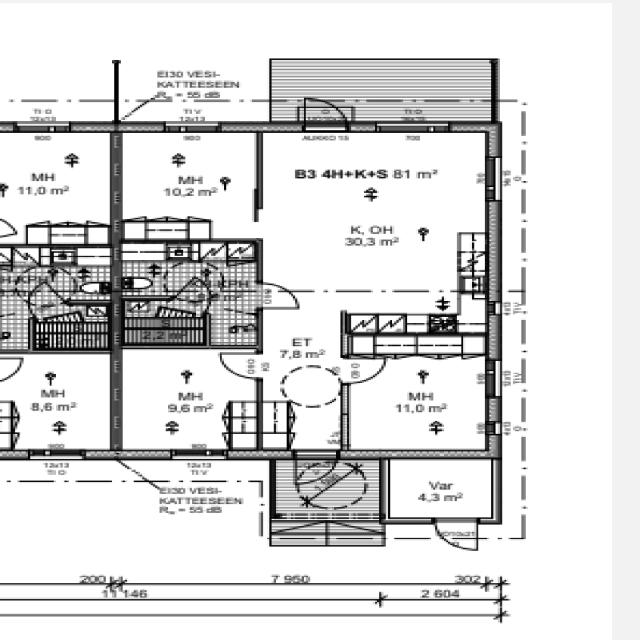door: (117, 345, 260, 451), (431, 518, 481, 552), (294, 454, 339, 489), (304, 99, 349, 132), (216, 350, 261, 380), (256, 281, 302, 310), (327, 514, 381, 538), (342, 356, 388, 384), (0, 355, 24, 383)
window: (483, 154, 505, 200), (372, 122, 442, 134), (163, 121, 222, 134), (169, 448, 222, 462), (14, 122, 72, 133), (34, 450, 88, 460), (517, 210, 532, 232), (518, 498, 530, 517)
zone: (265, 127, 491, 302), (345, 346, 492, 456), (118, 346, 258, 454), (117, 130, 258, 234), (0, 132, 116, 236), (8, 351, 114, 454), (118, 240, 256, 300), (384, 457, 500, 520), (3, 245, 115, 302), (121, 296, 212, 344), (32, 300, 112, 348)
